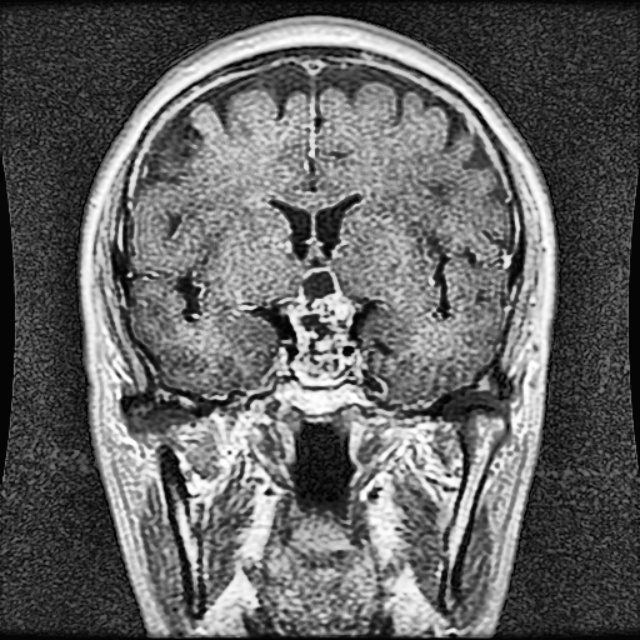Pituitary: (289, 265, 358, 382)
